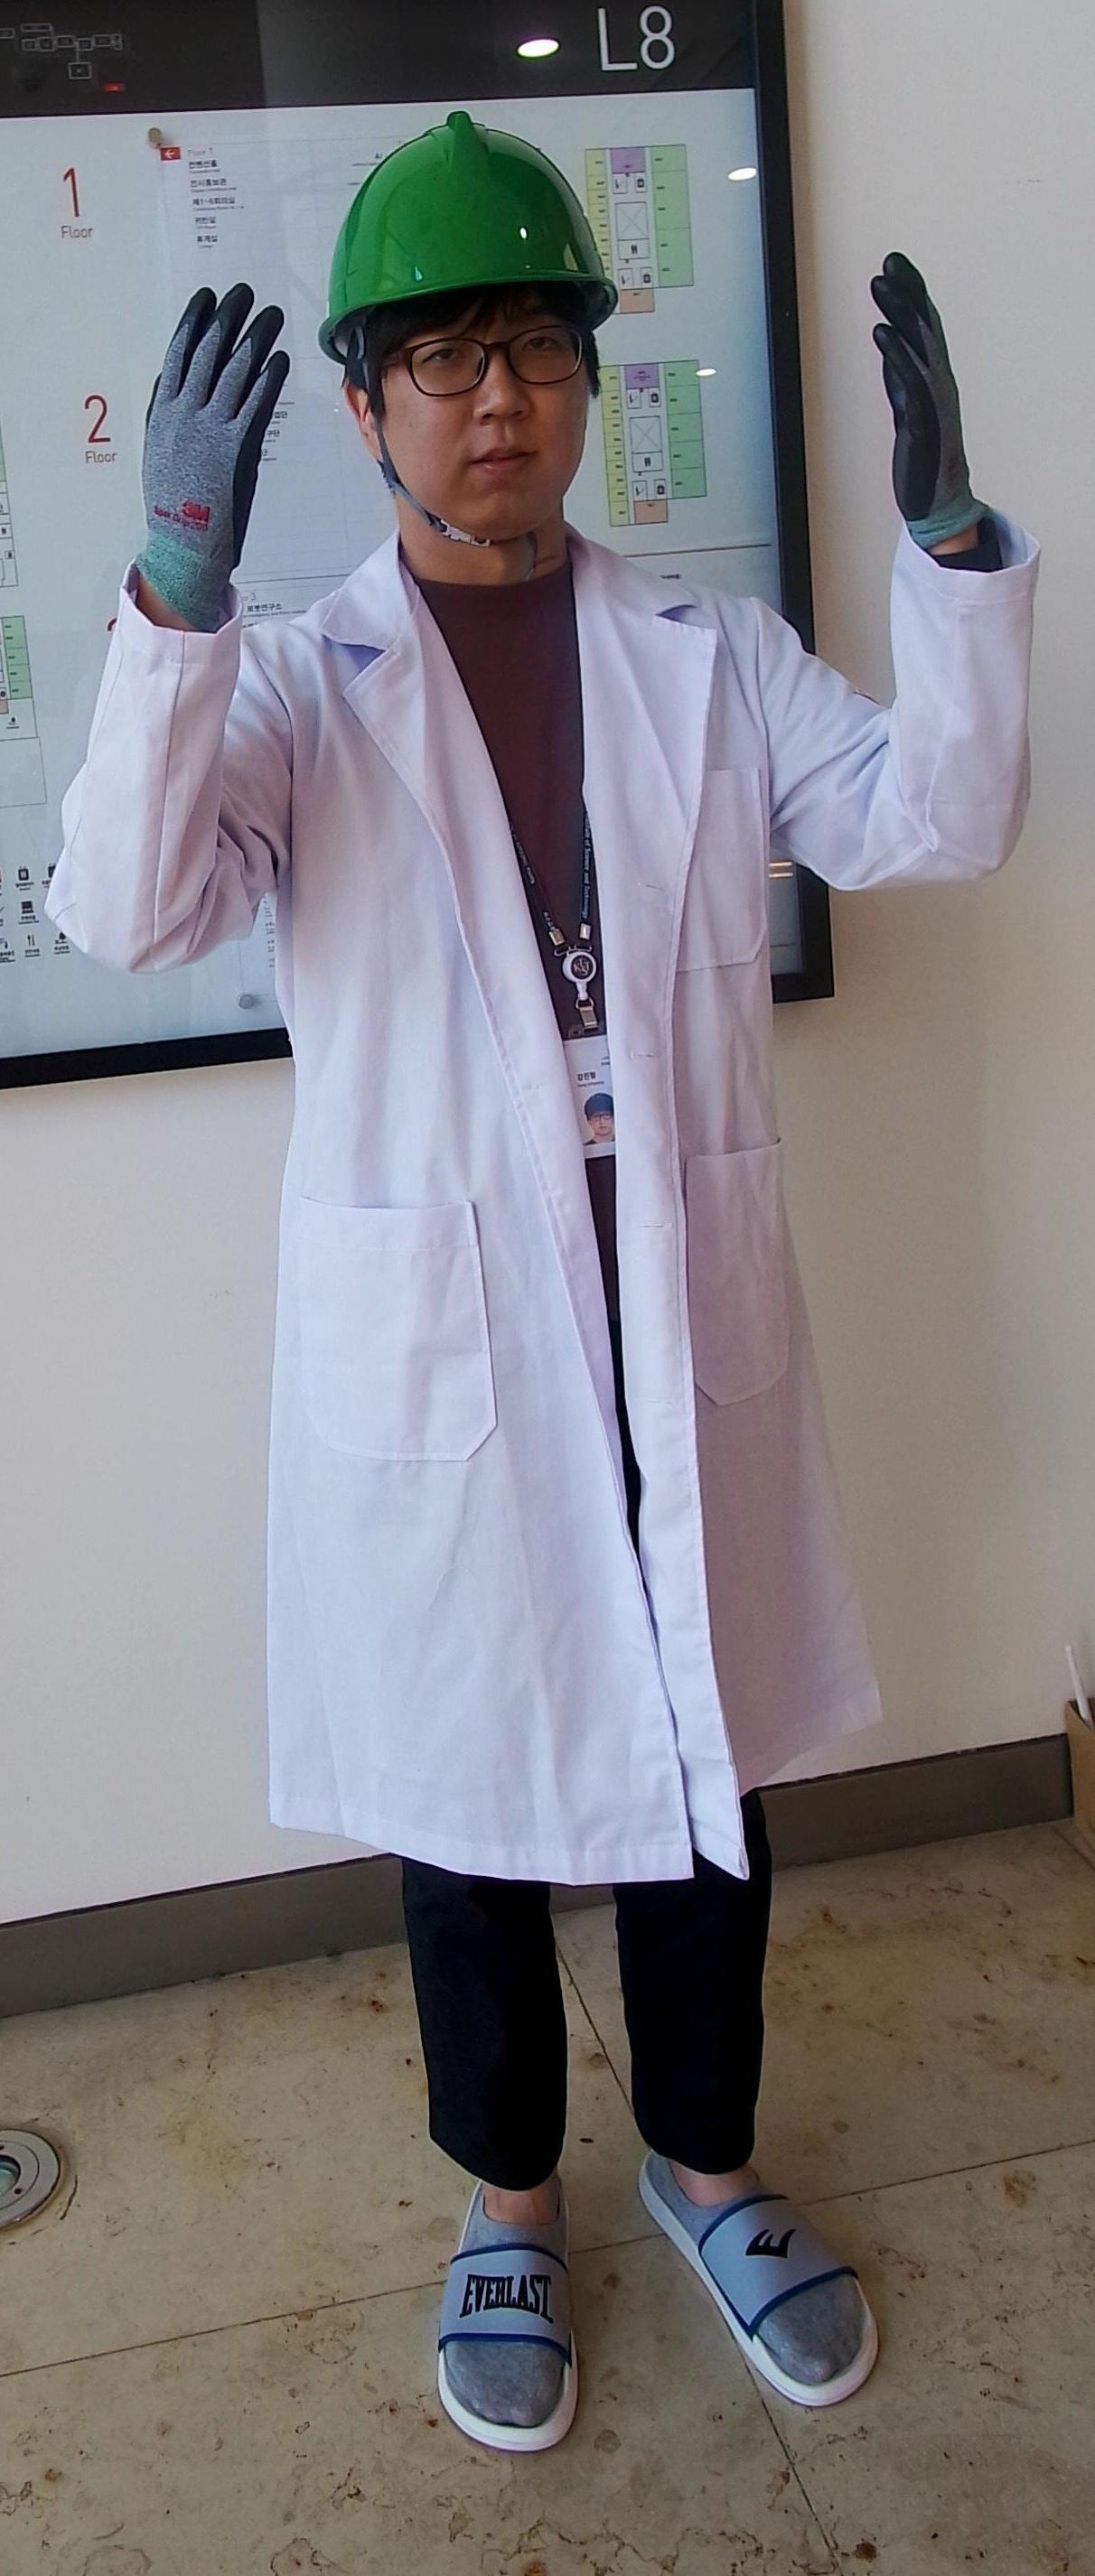lab_coat: (202, 611, 873, 1843)
